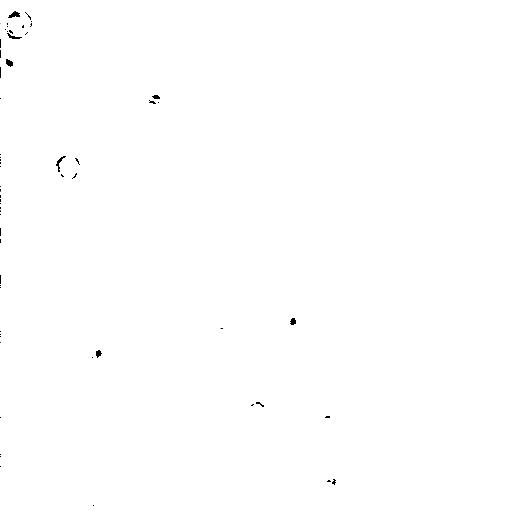micro-algae: (377, 178, 459, 265), (175, 63, 245, 136), (1, 223, 58, 287), (70, 339, 132, 394), (36, 364, 83, 410), (311, 459, 348, 501), (279, 299, 311, 336), (1, 38, 30, 74), (3, 6, 31, 36), (54, 150, 81, 181), (249, 395, 271, 417)
